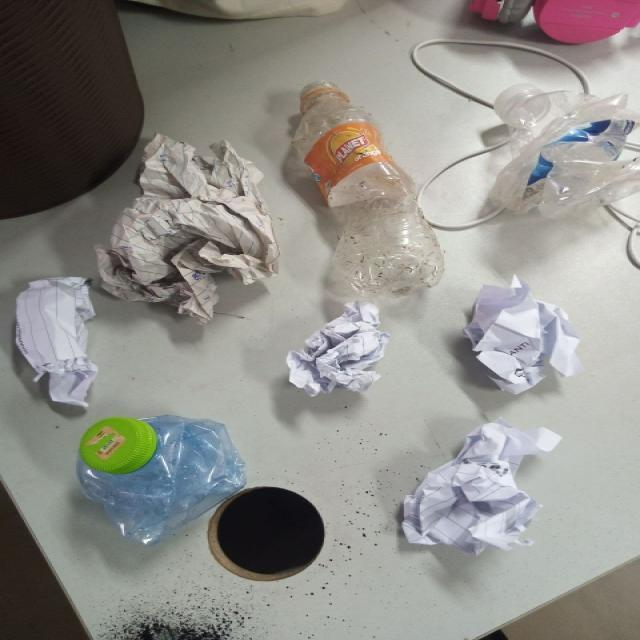Paper: (92, 134, 280, 325), (397, 422, 561, 558), (465, 275, 580, 396), (15, 279, 99, 412), (288, 303, 389, 399)
Plastic: (293, 79, 445, 299), (76, 415, 248, 548), (485, 84, 640, 216)
